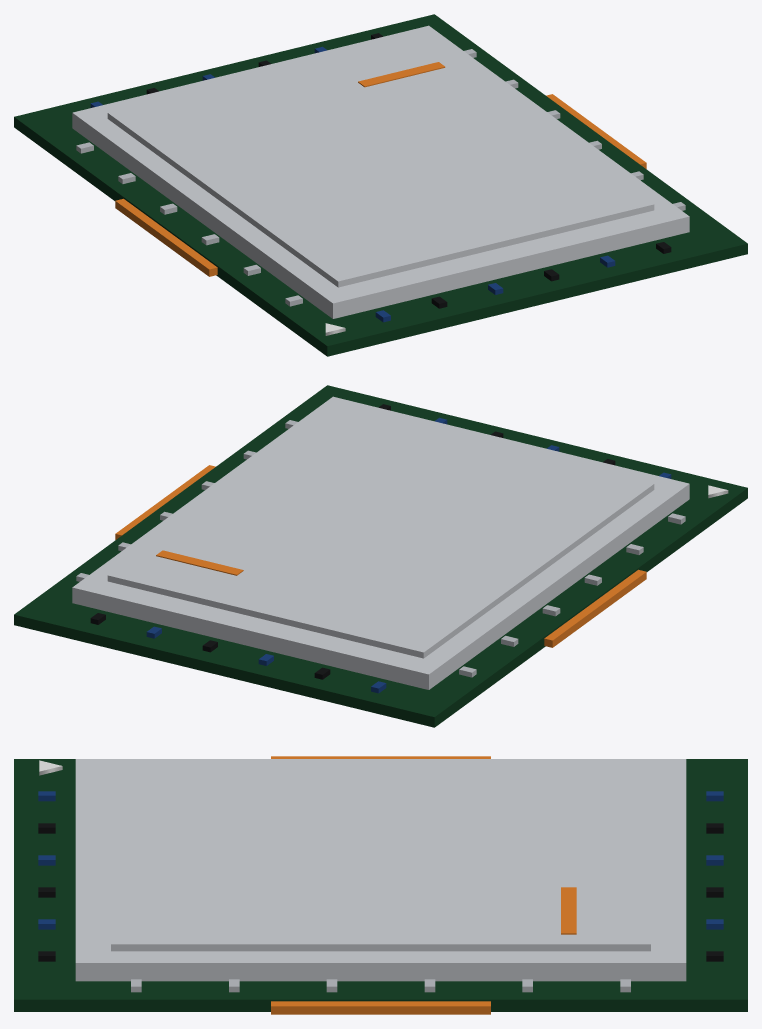
File: hw_cpu_epyc_24c.glb
3 renders of one model, top to bottom at view 1: azimuth 30°, elevation 25°; view 2: azimuth 150°, elevation 25°; view 3: azimuth 270°, elevation 25°, orthographic. The views are drawn at different scales.
Parts seen in each view (by area): view 1: Body; view 2: Body; view 3: Body.
Boxes of the visible parts, x1,y1,x2,y2 form: Body: [14, 14, 747, 356]; Body: [14, 385, 747, 727]; Body: [14, 756, 747, 1014].
Bounding box in the file's own units: 0.0608 × 0.00467 × 0.0755.
